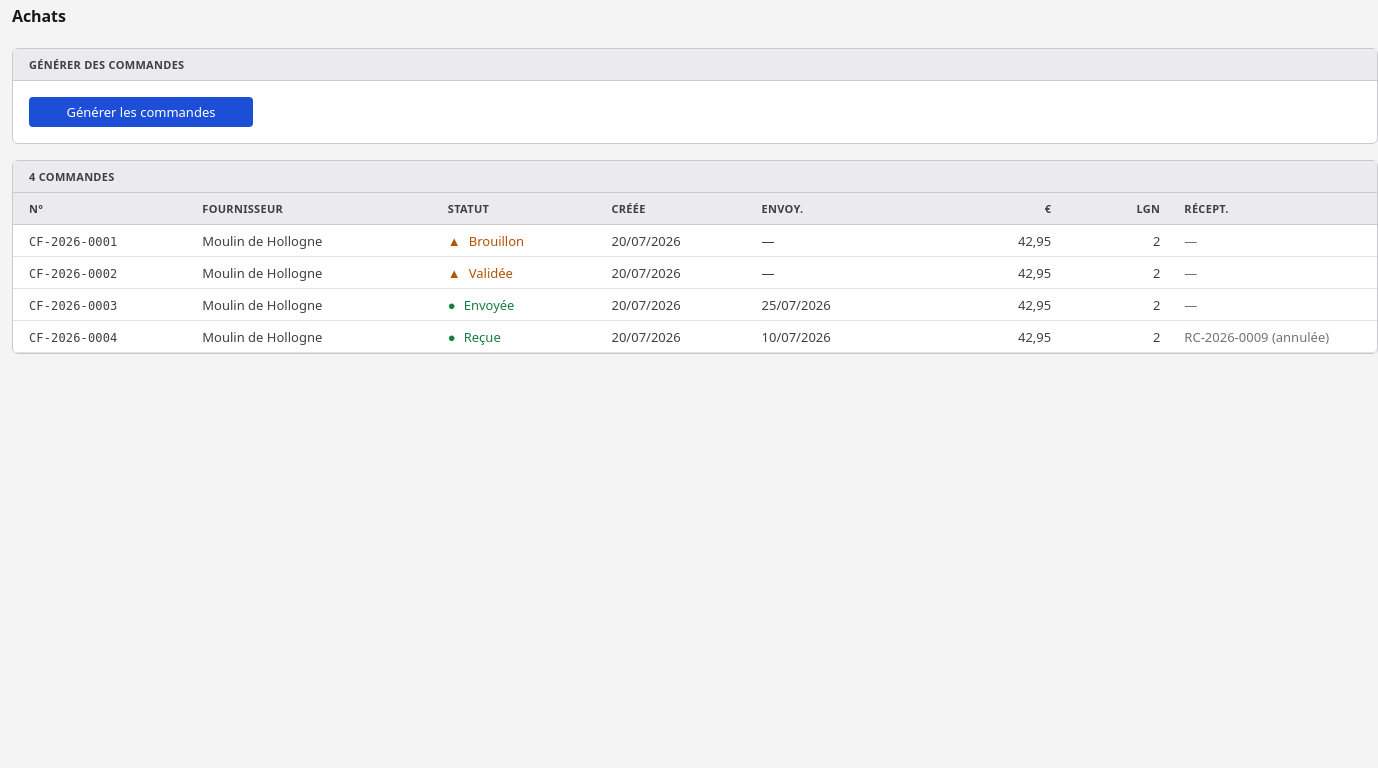
Scenario: Achats — D-009 : générer, valider, envoyer, dans cet ordre et pas un autre › un BROUILLON offre « Valider » et jamais le formulaire d’envoi
Click the row "CF-2026-0001". click: {"x": 695, "y": 241}
box: top-left (13, 225), bottom-right (1377, 257)
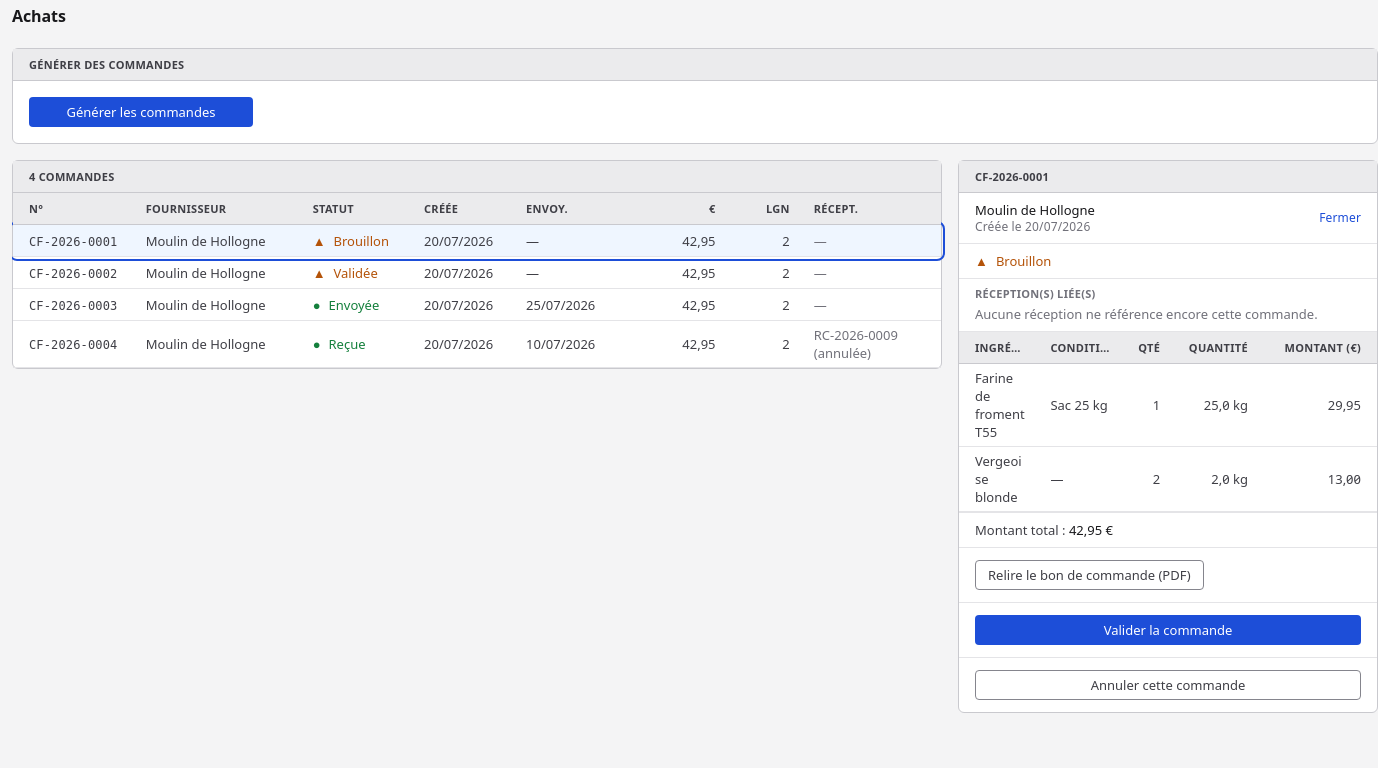
Check: the heading "CF-2026-0001" is shown, box top-left (959, 161), bottom-right (1377, 193)
Check: the button "Valider la commande" is shown, box top-left (975, 615), bottom-right (1361, 645)
